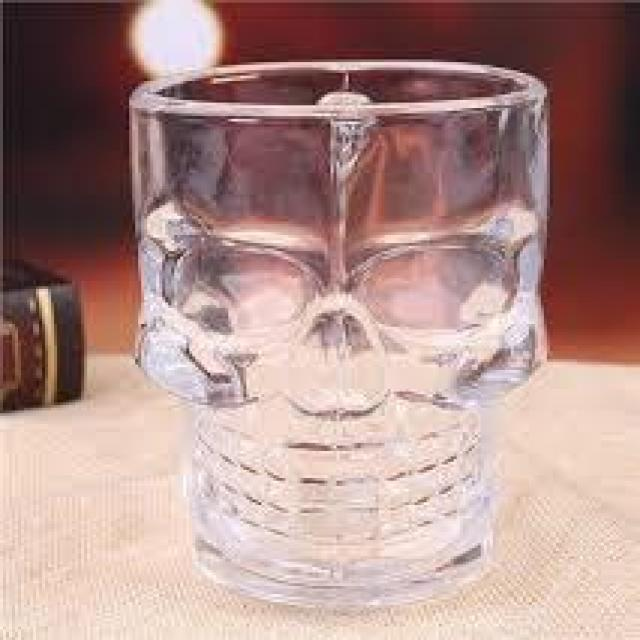non-organic waste: (122, 51, 560, 618)
